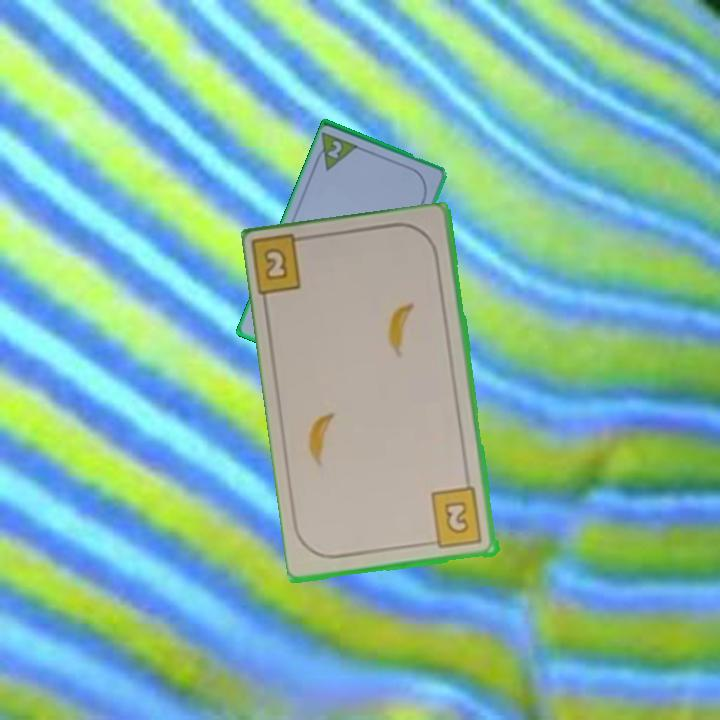2b: (251, 232, 316, 301), (425, 485, 486, 551)
2p: (324, 137, 345, 162)
